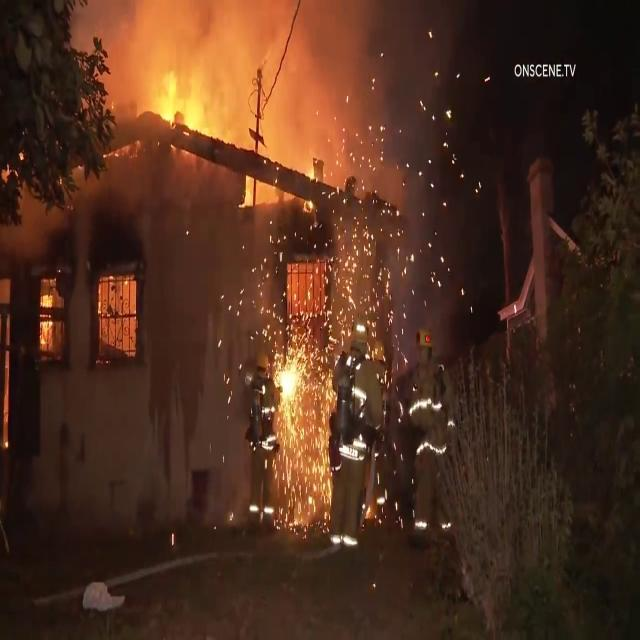Fire: (132, 66, 216, 172), (272, 338, 318, 512), (284, 136, 330, 205), (44, 278, 62, 362), (2, 290, 10, 445)
Smoke: (349, 8, 404, 327), (161, 0, 367, 54)
